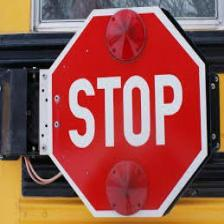Stop: (47, 10, 209, 218)
